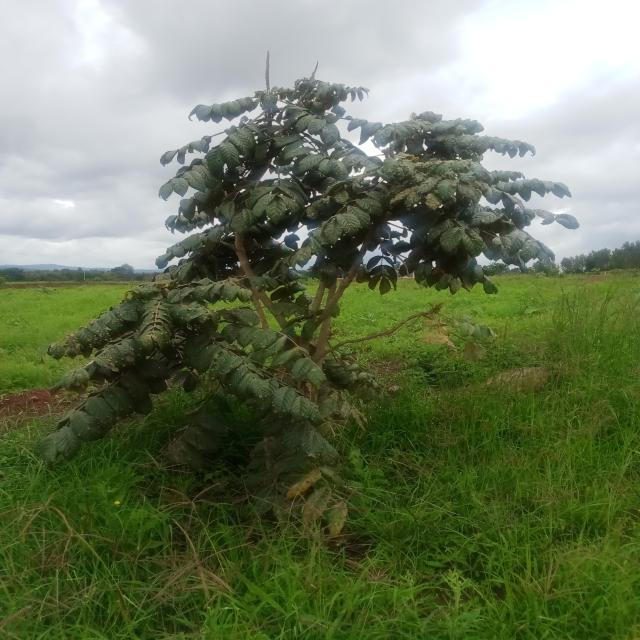Polyscias Kikuyensis: (45, 64, 583, 527)
